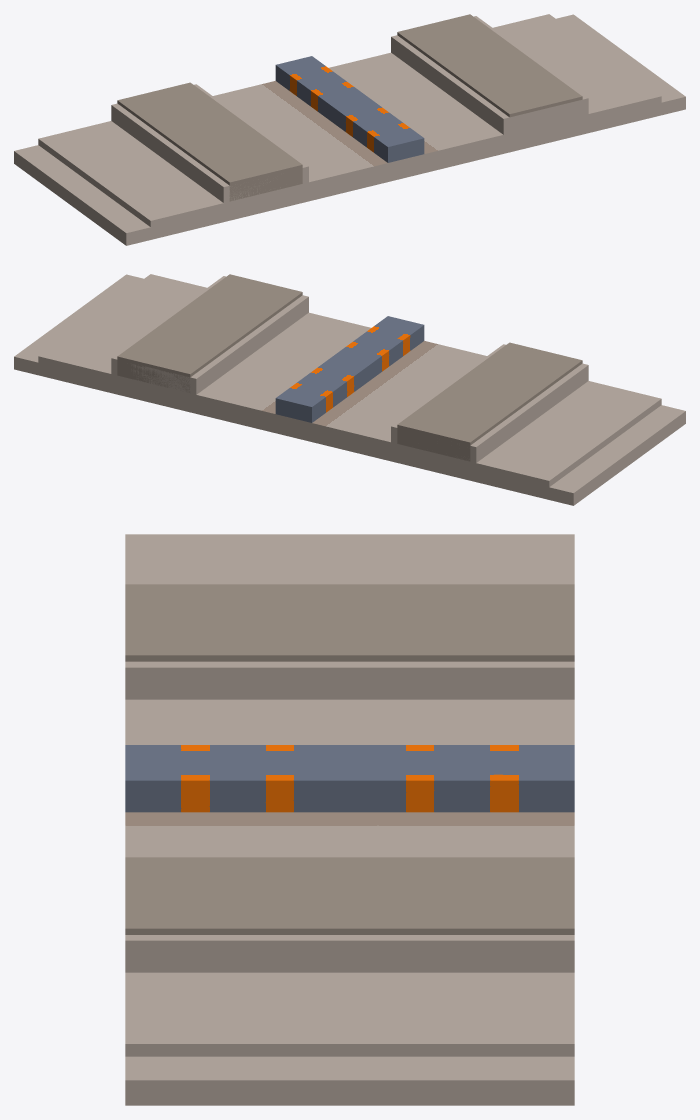
The model's file is agtrailnoside.obj.
3 views of the same model, one above another, from view 1: azimuth 30°, elevation 25°; view 2: azimuth 150°, elevation 25°; view 3: azimuth 270°, elevation 25° (orthographic). The views are drawn at different scales.
Parts seen in each view (by area): view 1: rail; view 2: rail; view 3: rail.
Part boxes in pixels (x1,y1,x2,y2): rail: (14, 14, 685, 245); rail: (14, 274, 685, 505); rail: (125, 534, 574, 1105).
Bounding box in the file's own units: 2.88 × 0.1875 × 1.
1 material, 1 textured.
